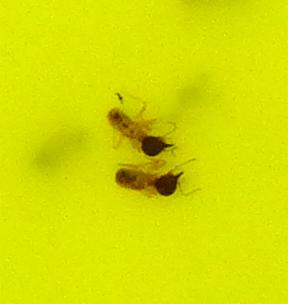Isoptera: (100, 100, 180, 163), (111, 153, 188, 204)
